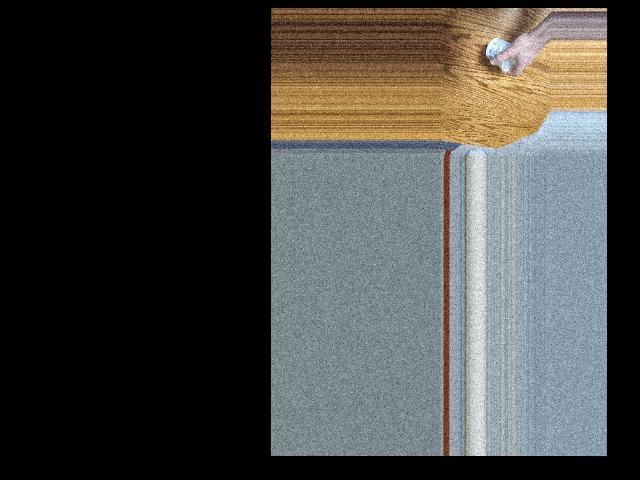cotage: (488, 37, 519, 72)
